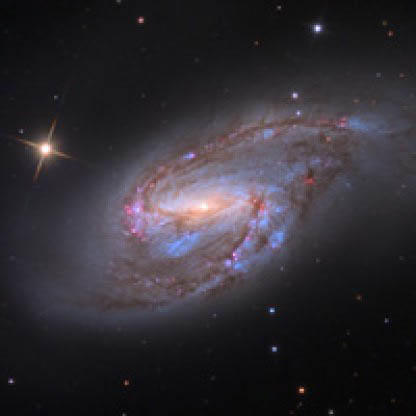Messier 66: (21, 84, 402, 333)
